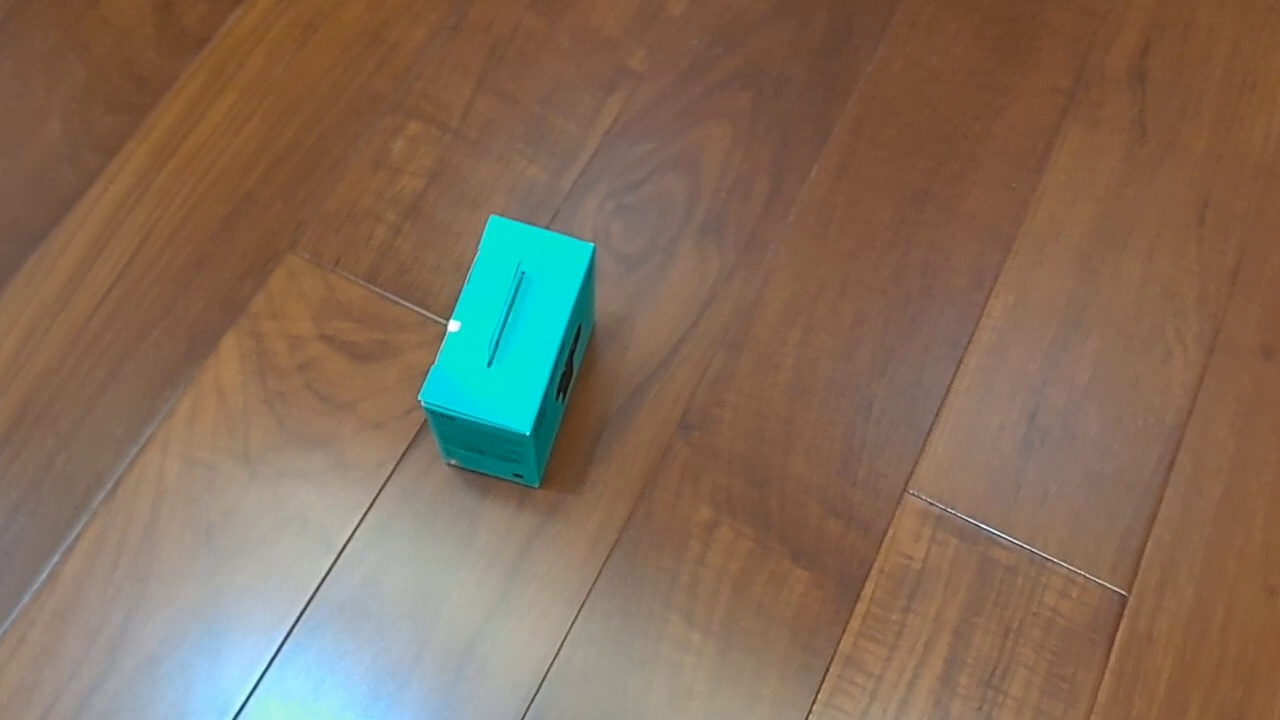webcam: (416, 213, 598, 490)
